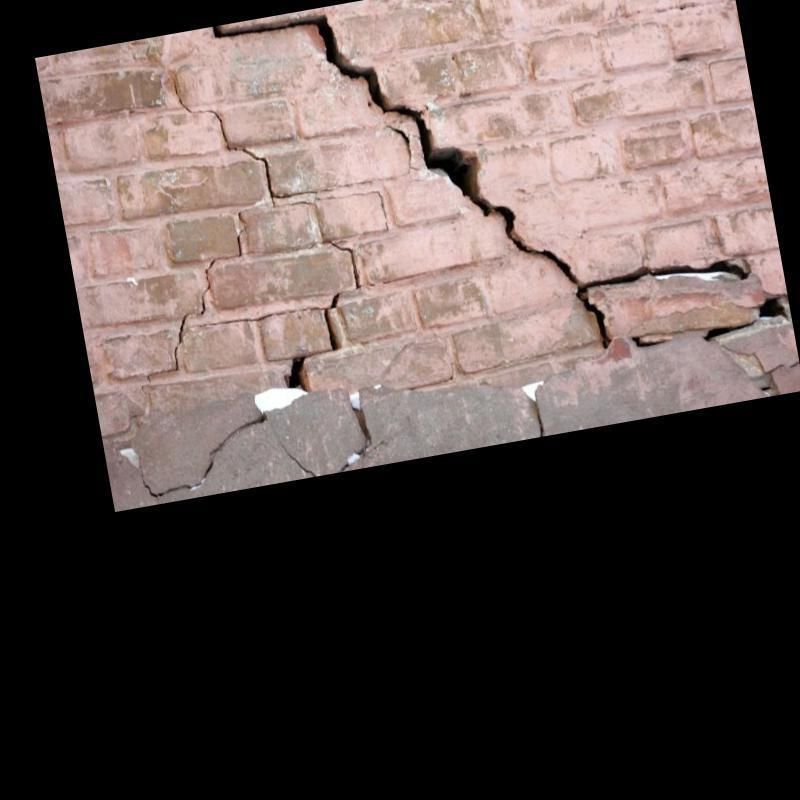crack: (211, 15, 750, 350), (169, 73, 317, 204), (200, 292, 342, 393), (137, 411, 267, 498), (195, 210, 247, 317), (146, 313, 190, 382), (386, 124, 419, 176), (328, 240, 361, 290), (280, 442, 318, 479), (703, 319, 758, 342), (759, 296, 789, 320), (534, 410, 548, 444), (632, 336, 671, 348), (758, 384, 774, 392)
